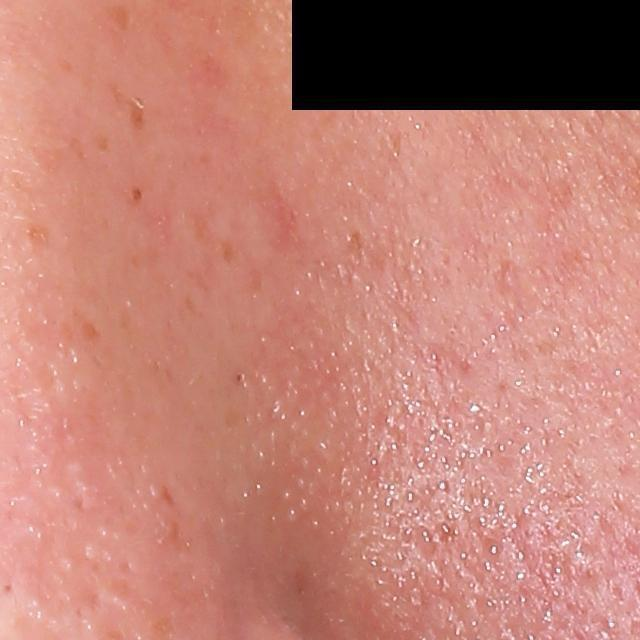melasma: (98, 2, 137, 37), (123, 94, 154, 135), (23, 219, 54, 248), (75, 316, 107, 342), (219, 235, 238, 264), (127, 184, 146, 204), (95, 132, 111, 154)
